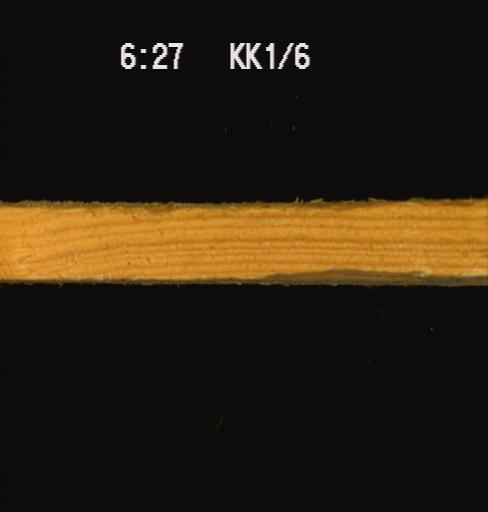wave: (243, 262, 466, 282)
